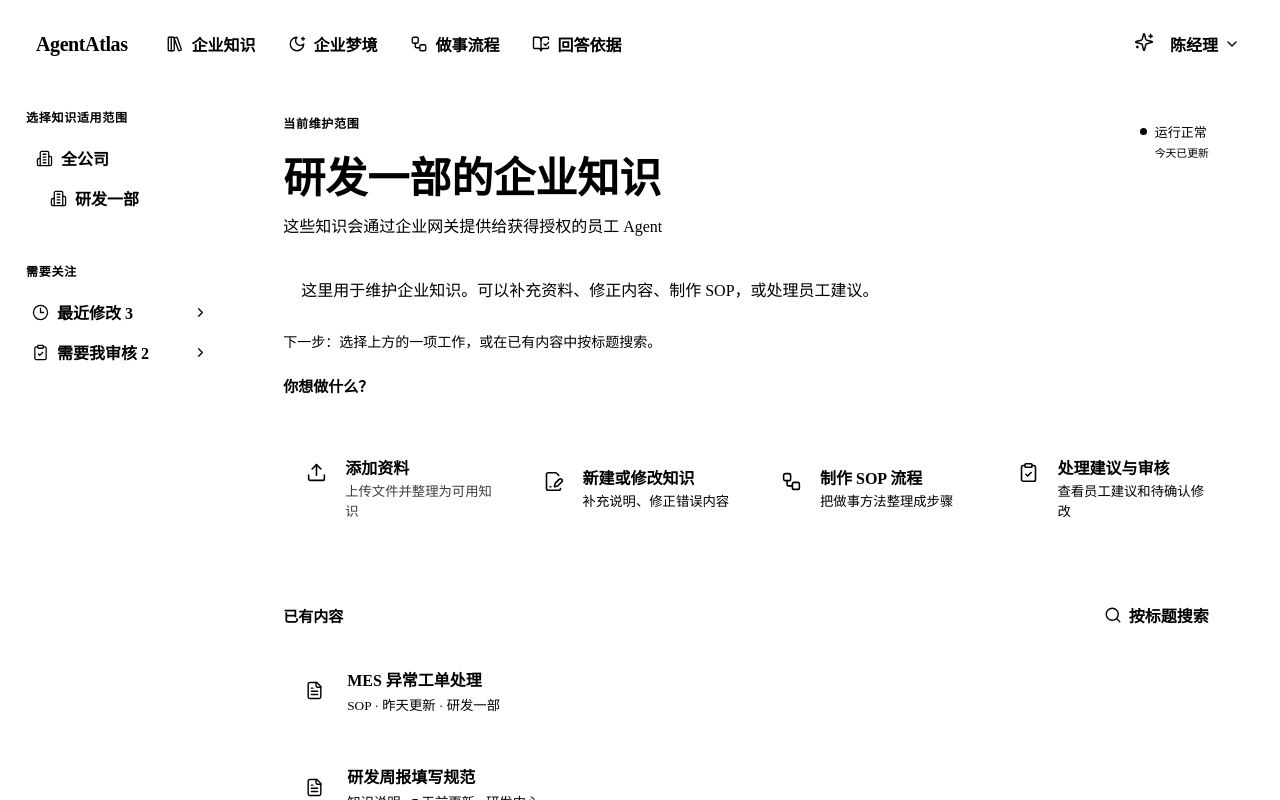
Test case: KnowledgeHome › clears the previous organization while the new scope loads and remains truthful on error
Expected: the text "MES 异常工单处理" is shown, x1=347 y1=672 x2=482 y2=688
Click the link "全公司": (72, 159) x1=36 y1=150 x2=109 y2=168
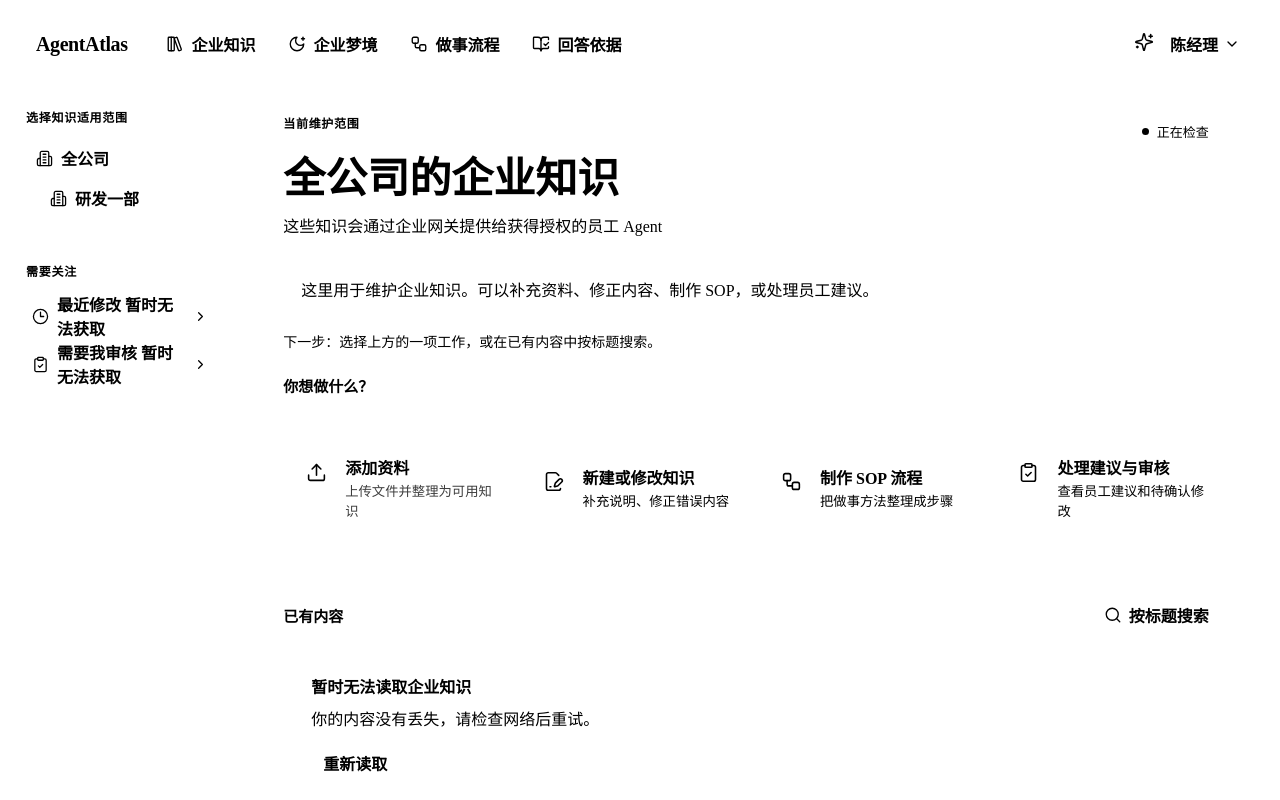
Now the text "正在读取全公司的知识…" is shown, box x1=311 y1=679 x2=599 y2=782
Now the text "最近修改 3" is gone
Now the text "今天已更新" is gone
